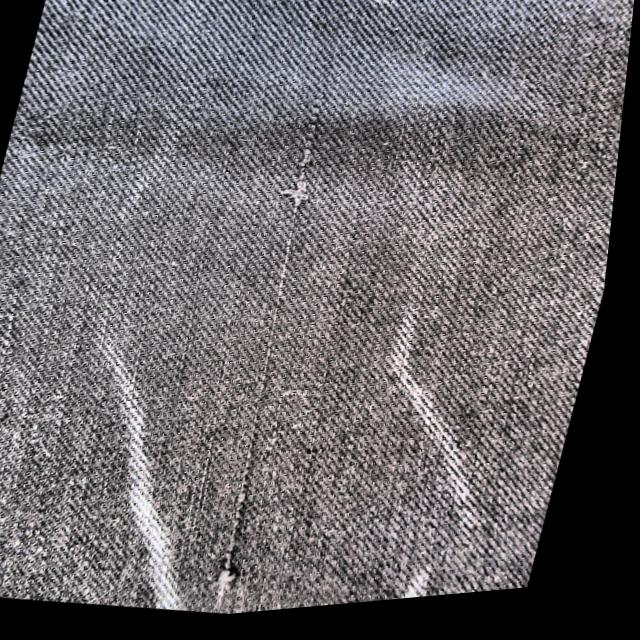Hole: (222, 92, 330, 616)
